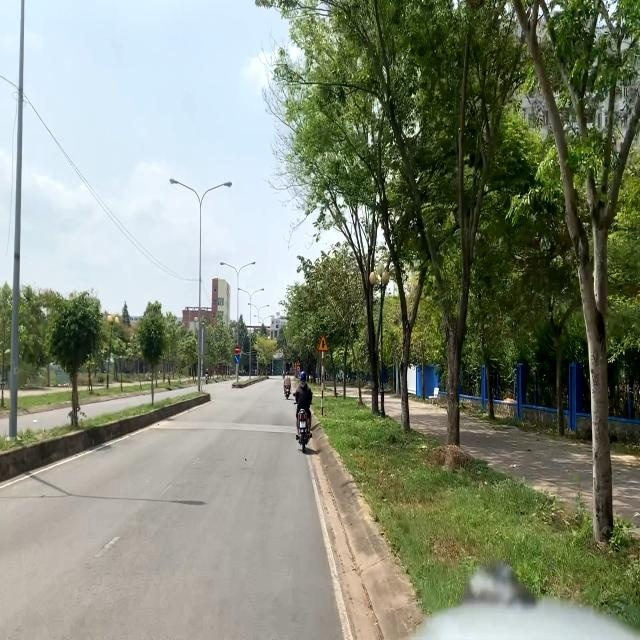bien_hieu_lenh: (317, 334, 329, 353), (234, 355, 240, 364), (234, 345, 240, 354)
